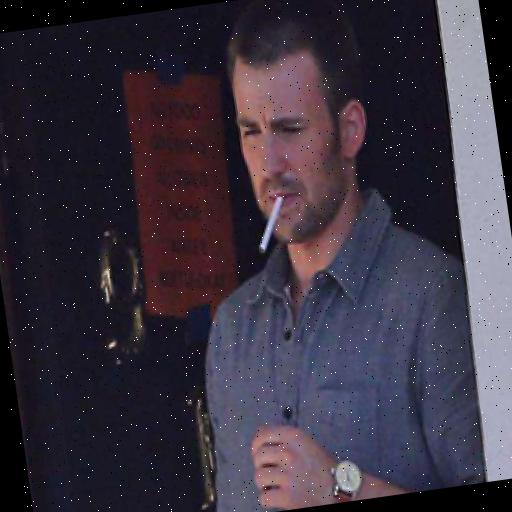dataset-deteksi-merokok: (228, 110, 339, 276)
